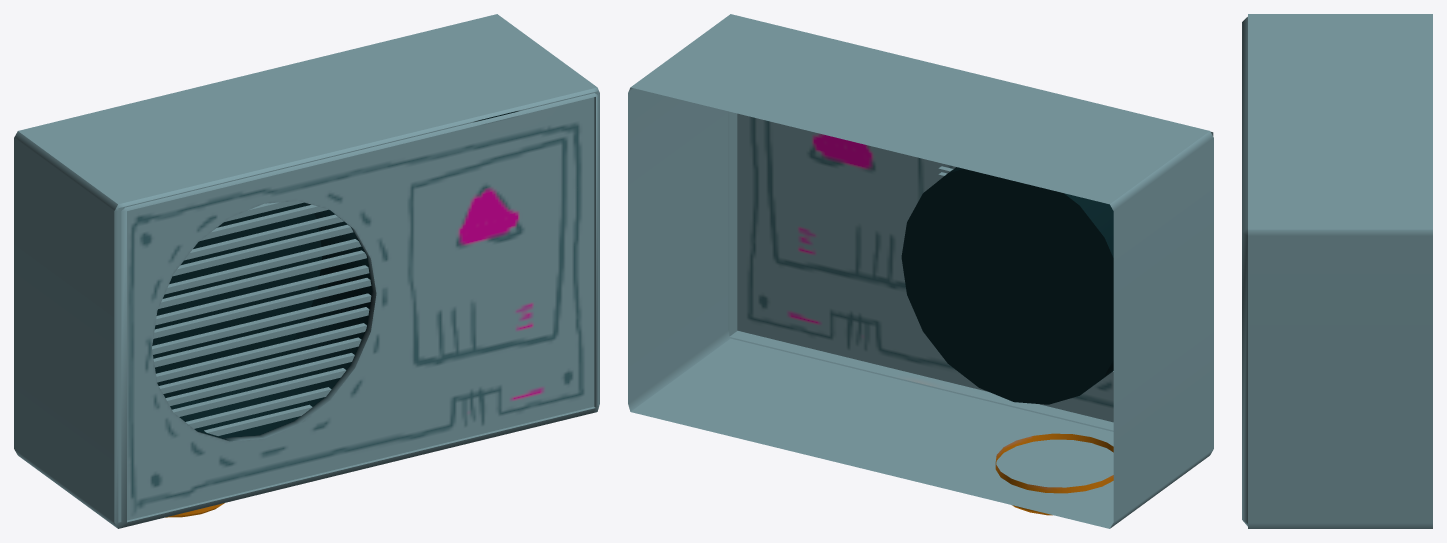
The model's file is Airconditioner.fbx.
The picture shows the model from 3 angles, left to right: view 1: azimuth 30°, elevation 25°; view 2: azimuth 150°, elevation 25°; view 3: azimuth 270°, elevation 25°; orthographic projection. The views are drawn at different scales.
Parts seen in each view (by area): view 1: AirConditioner; view 2: AirConditioner; view 3: AirConditioner.
Boxes of the visible parts, bbox=[...] form: AirConditioner: bbox=[14, 14, 599, 528]; AirConditioner: bbox=[628, 14, 1213, 528]; AirConditioner: bbox=[1242, 14, 1432, 528].
Bounding box in the file's own units: 87.13 × 59.83 × 32.16.
